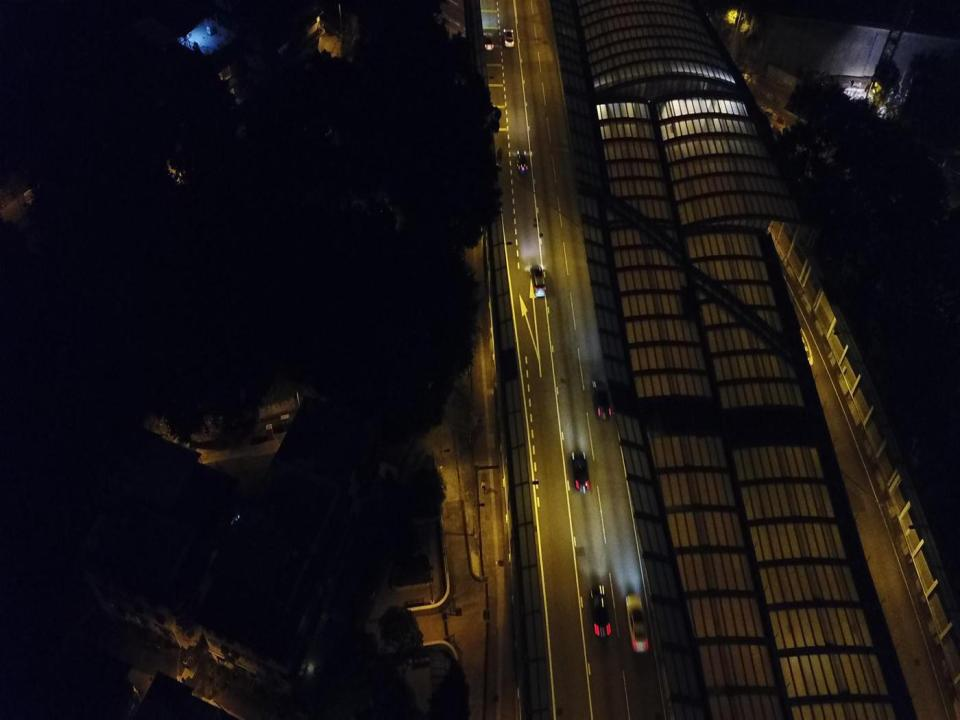car: (624, 593, 651, 655), (588, 583, 613, 640), (590, 379, 614, 422), (571, 450, 591, 494), (530, 264, 548, 297), (516, 148, 529, 175), (502, 26, 515, 48), (481, 32, 494, 52)
